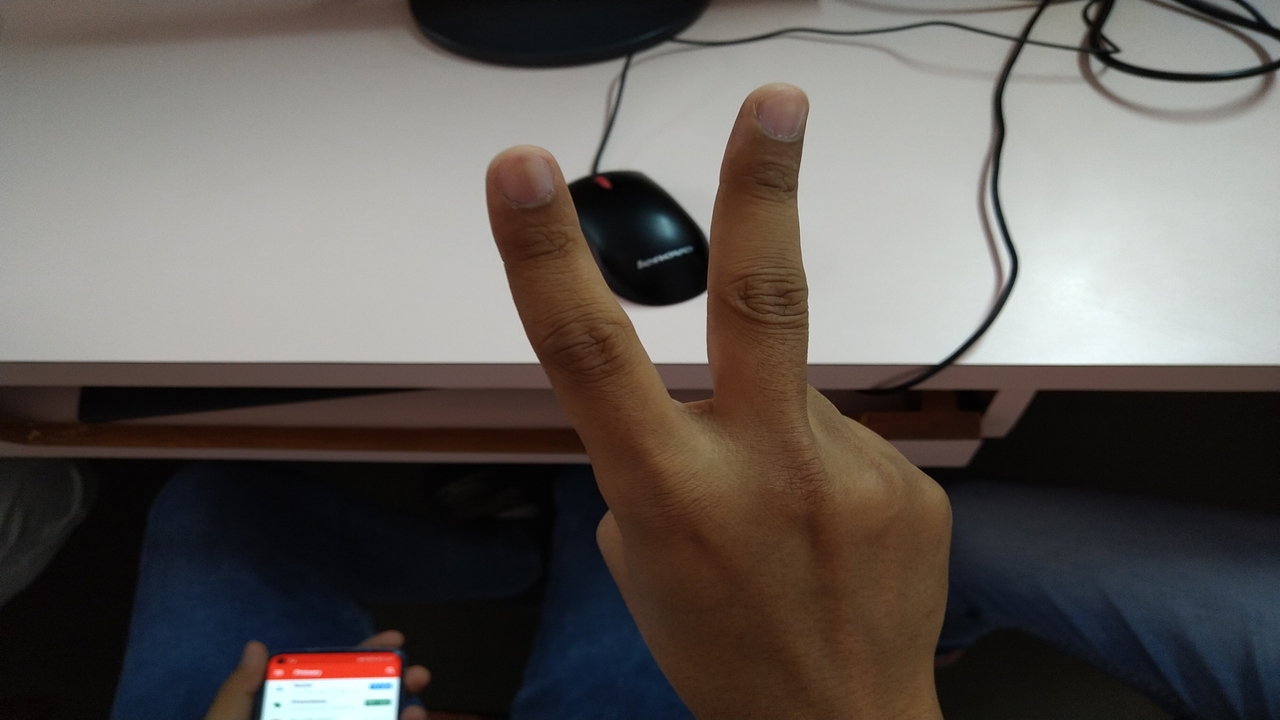fingertip: (484, 142, 564, 210), (736, 80, 816, 146)
